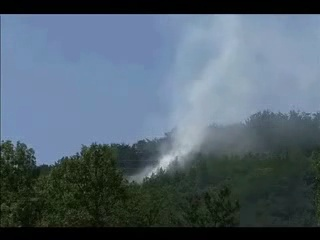smoke: (174, 12, 283, 151), (108, 99, 194, 184)
